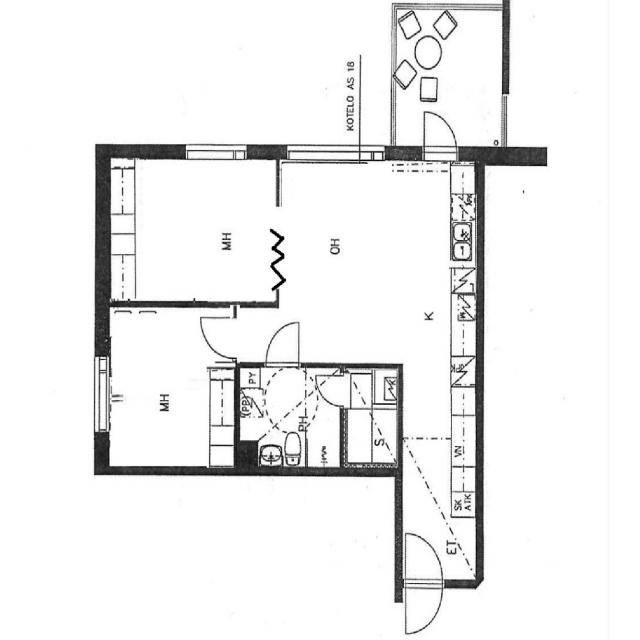door: (405, 533, 442, 589), (405, 578, 442, 634), (424, 103, 456, 159), (266, 321, 298, 368), (202, 317, 238, 358), (316, 376, 346, 406)
